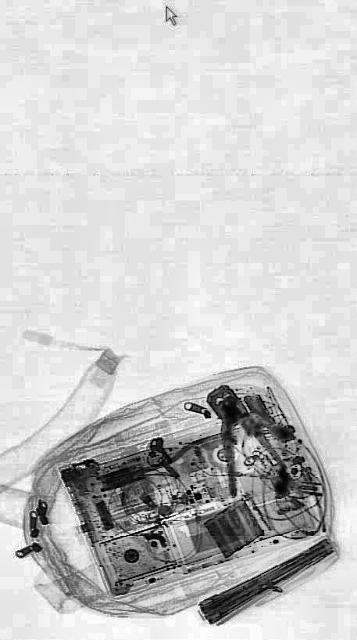Pliers: (193, 361, 287, 524)
